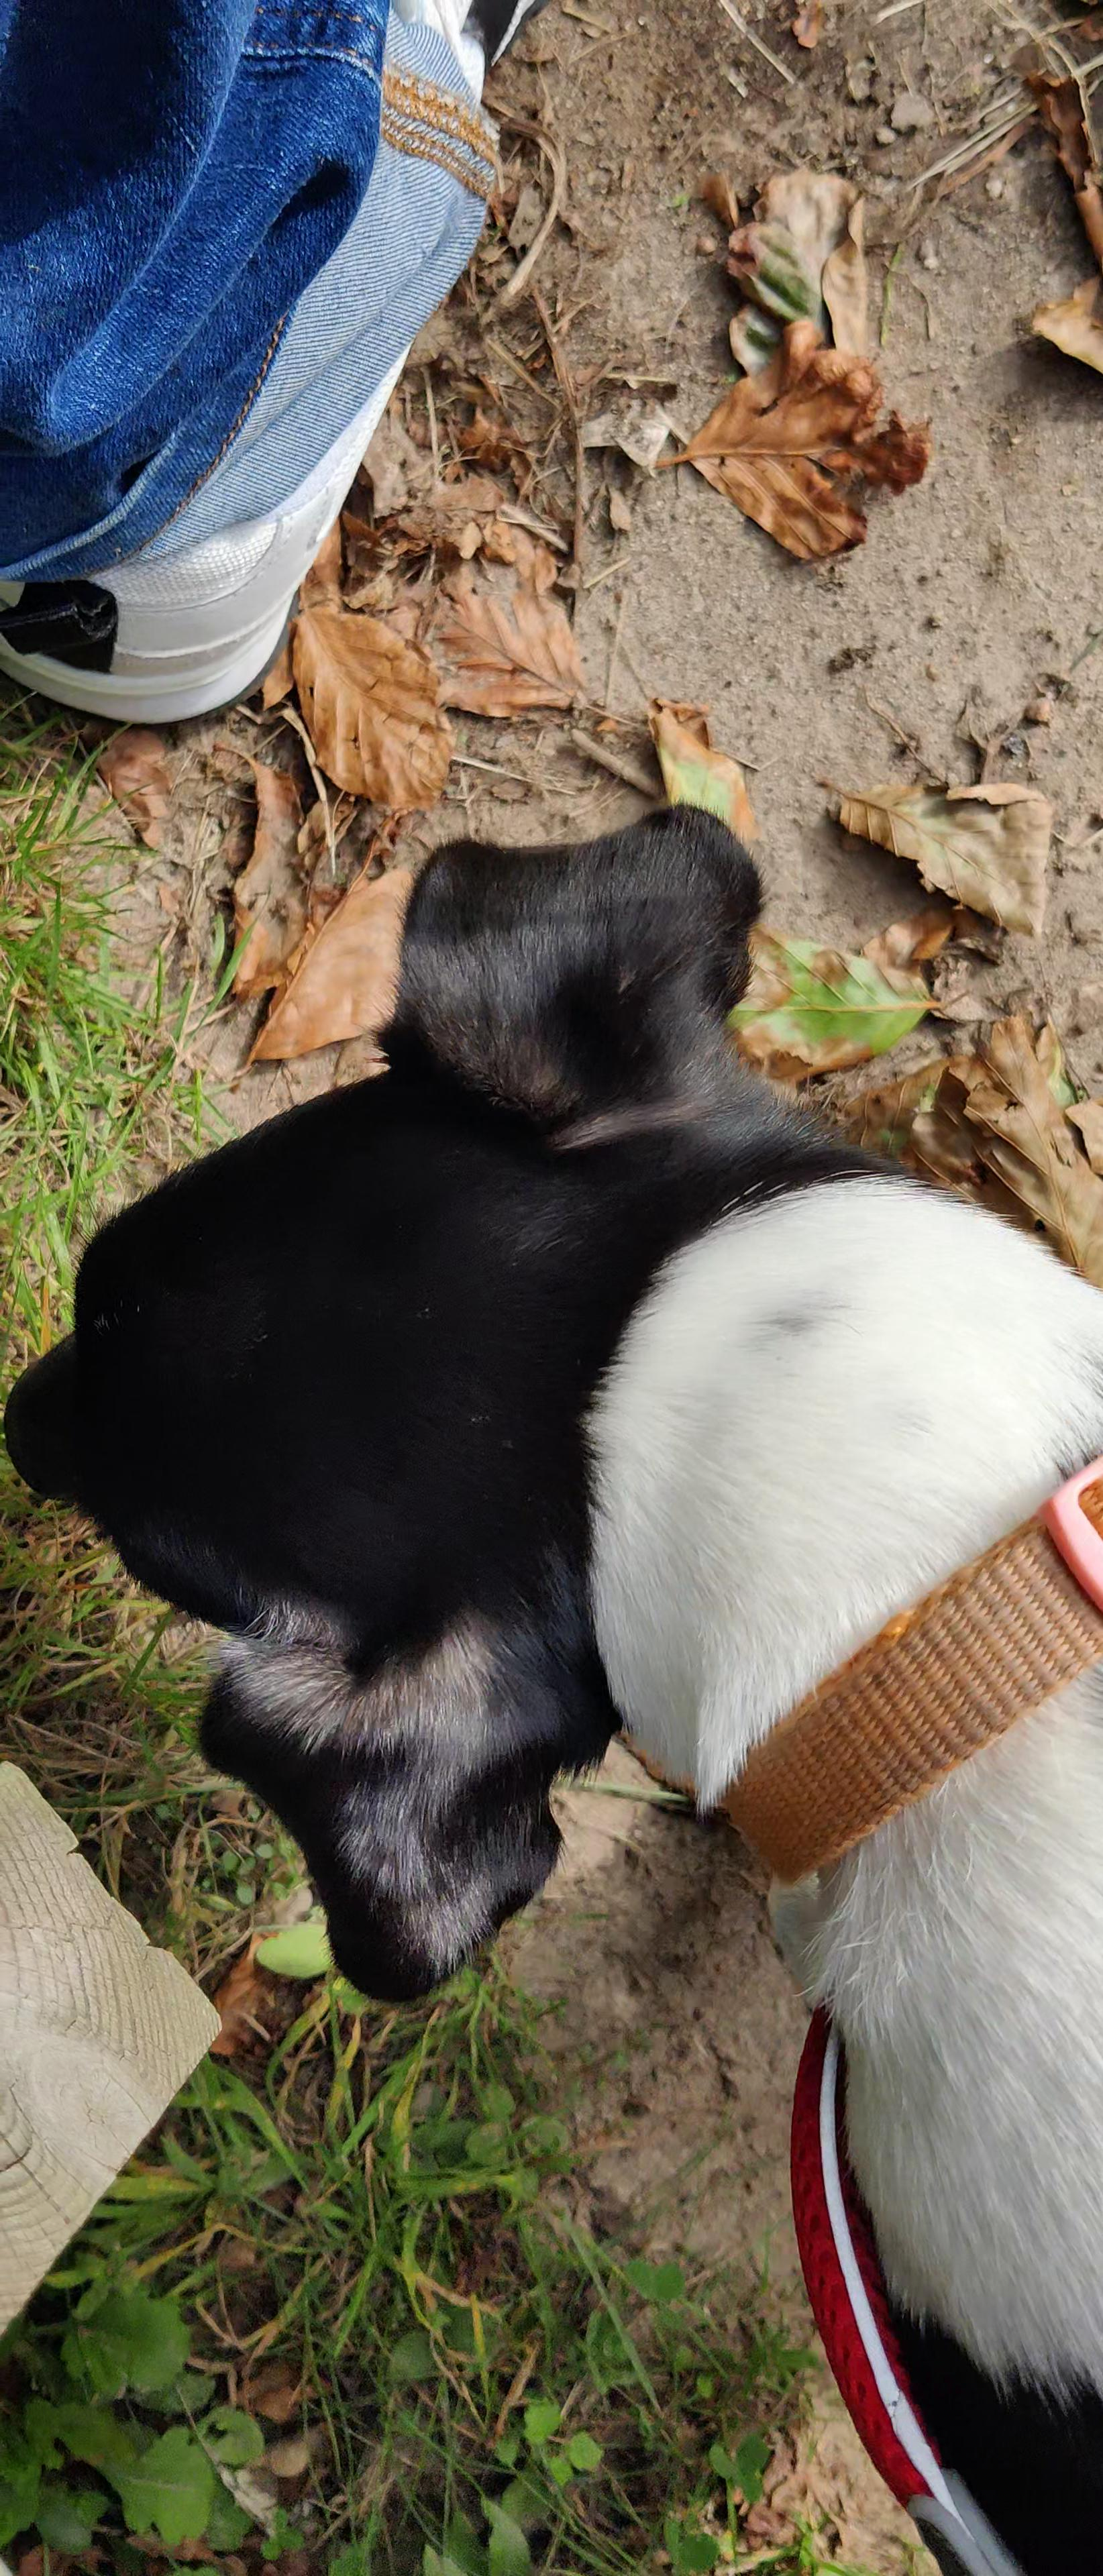Dog: (0, 790, 1103, 2576)
